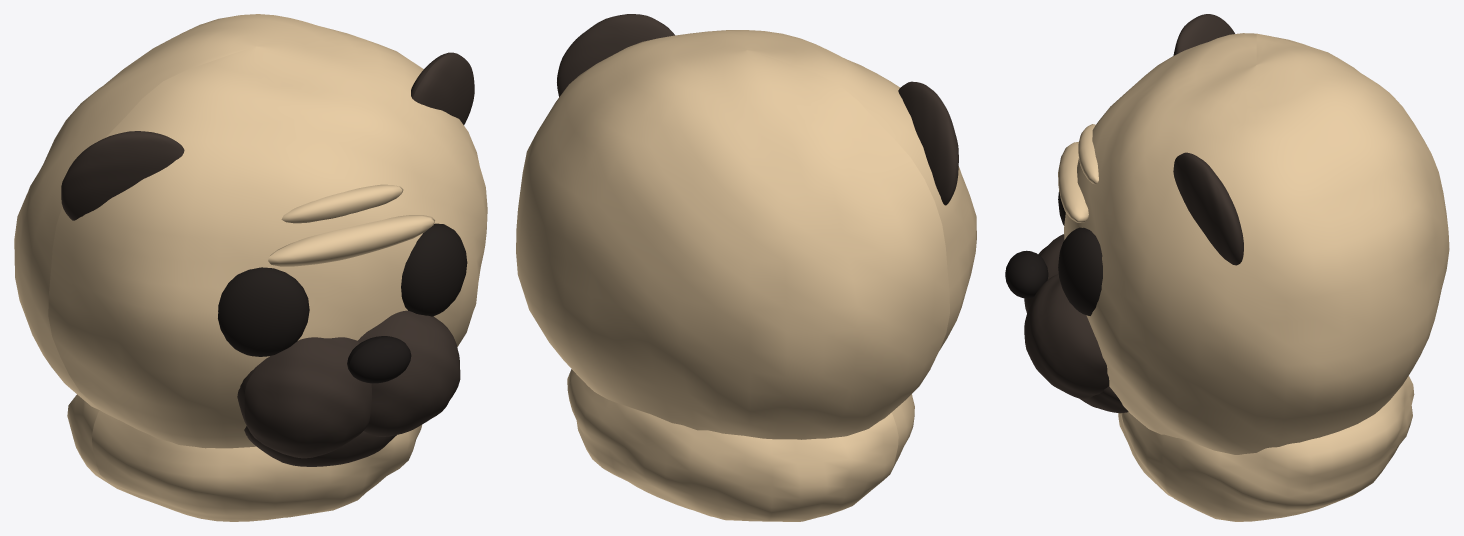
Rendered from head-dog-pug.glb.
3 renders of one model, left to right at view 1: azimuth 30°, elevation 25°; view 2: azimuth 150°, elevation 25°; view 3: azimuth 270°, elevation 25°, orthographic. The views are drawn at different scales.
Visible parts, largest first — view 1: PM_FUR_MAIN_1, PM_FUR_MAIN_12, PM_FUR_SECONDARY_2, PM_FUR_SECONDARY_3, PM_EYES_8, PM_EARS_10, PM_EYES_9, PM_FUR_MAIN_5, PM_EARS_11, PM_FUR_MAIN_6, PM_NOSE_7, PM_FUR_SECONDARY_4; view 2: PM_FUR_MAIN_1, PM_FUR_MAIN_12, PM_EARS_10, PM_EARS_11; view 3: PM_FUR_MAIN_1, PM_FUR_MAIN_12, PM_FUR_SECONDARY_3, PM_EARS_11, PM_EYES_9, PM_NOSE_7, PM_FUR_MAIN_5, PM_EARS_10, PM_FUR_MAIN_6, PM_FUR_SECONDARY_2, PM_FUR_SECONDARY_4.
Boxes of the visible parts, x1=… form: PM_FUR_MAIN_1: x1=14, y1=14, x2=487, y2=448; PM_FUR_MAIN_12: x1=67, y1=394, x2=421, y2=521; PM_FUR_SECONDARY_2: x1=237, y1=337, x2=372, y2=458; PM_FUR_SECONDARY_3: x1=358, y1=310, x2=460, y2=436; PM_EYES_8: x1=218, y1=267, x2=309, y2=356; PM_EARS_10: x1=61, y1=131, x2=184, y2=220; PM_EYES_9: x1=401, y1=223, x2=467, y2=316; PM_FUR_MAIN_5: x1=268, y1=215, x2=434, y2=266; PM_EARS_11: x1=411, y1=52, x2=474, y2=124; PM_FUR_MAIN_6: x1=281, y1=184, x2=403, y2=223; PM_NOSE_7: x1=347, y1=336, x2=411, y2=383; PM_FUR_SECONDARY_4: x1=244, y1=426, x2=396, y2=466; PM_FUR_MAIN_1: x1=516, y1=30, x2=976, y2=439; PM_FUR_MAIN_12: x1=567, y1=369, x2=914, y2=521; PM_EARS_10: x1=898, y1=81, x2=958, y2=205; PM_EARS_11: x1=557, y1=14, x2=674, y2=96; PM_FUR_MAIN_1: x1=1064, y1=33, x2=1449, y2=454; PM_FUR_MAIN_12: x1=1118, y1=376, x2=1414, y2=521; PM_FUR_SECONDARY_3: x1=1024, y1=274, x2=1109, y2=398; PM_EARS_11: x1=1173, y1=152, x2=1243, y2=265; PM_EYES_9: x1=1058, y1=227, x2=1102, y2=315; PM_NOSE_7: x1=1005, y1=250, x2=1048, y2=298; PM_FUR_MAIN_5: x1=1058, y1=142, x2=1088, y2=222; PM_EARS_10: x1=1173, y1=14, x2=1234, y2=55; PM_FUR_MAIN_6: x1=1078, y1=124, x2=1098, y2=184; PM_FUR_SECONDARY_2: x1=1024, y1=234, x2=1064, y2=313; PM_FUR_SECONDARY_4: x1=1080, y1=386, x2=1128, y2=413.
Size of the model in its own units: 0.0689 by 0.0727 by 0.0676.
